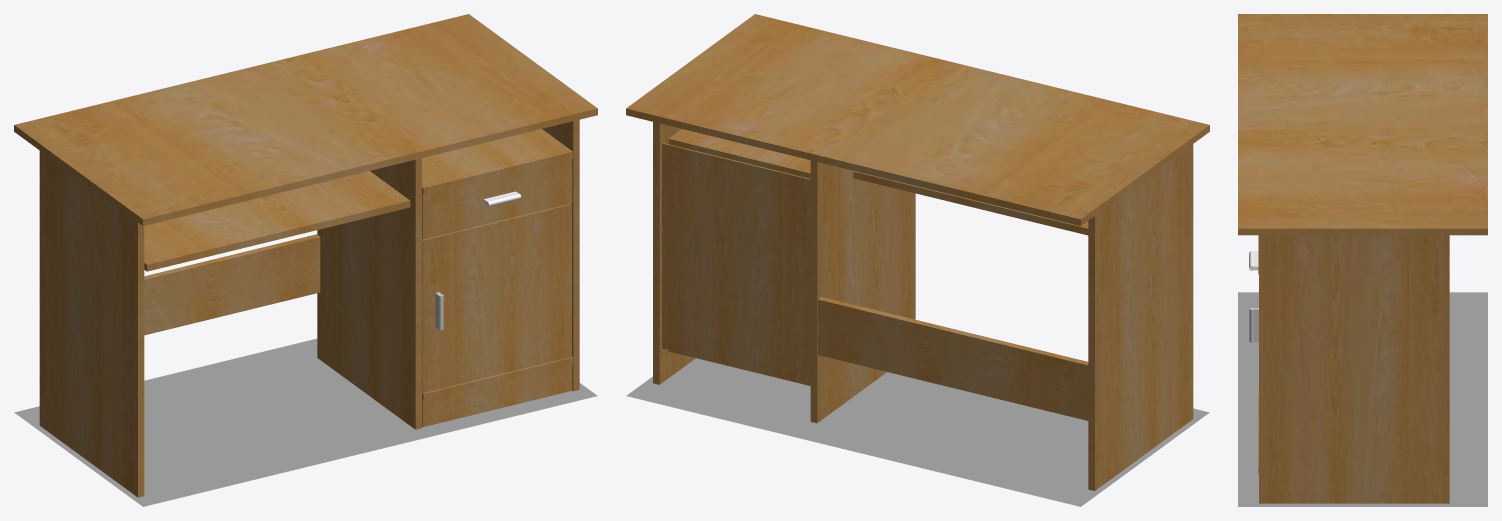
The model's file is Escritorio.obj.
3 views of the same model, side by side, from view 1: azimuth 30°, elevation 25°; view 2: azimuth 150°, elevation 25°; view 3: azimuth 270°, elevation 25° (orthographic). The views are drawn at different scales.
Parts seen in each view (by area): view 1: Cube_1_1_2, ground_1, Cube_2_1_3_4, Cube_3_5_6, Cube_2_2_3, Cube_6_8_9, Cube_7_9_10, Cube_4_6_7, Cube_8_10_11, Cube_5_7_8, Cube_2_2_4_5, Cube_8_1_16_17; view 2: Cube_1_1_2, ground_1, Cube_3_1_11_12, Cube_2_1_3_4, Cube_2_2_3, Cube_7_9_10, Cube_2_2_4_5, Cube_8_10_11, Cube_6_8_9; view 3: Cube_1_1_2, Cube_2_2_4_5, ground_1.
Boxes of the visible parts, x1,y1,x2,y2 form: Cube_1_1_2: (14,14,597,225); ground_1: (14,338,597,506); Cube_2_1_3_4: (39,151,144,497); Cube_3_5_6: (422,203,571,392); Cube_2_2_3: (317,158,421,429); Cube_6_8_9: (144,171,410,271); Cube_7_9_10: (144,234,320,335); Cube_4_6_7: (422,159,572,239); Cube_8_10_11: (422,129,572,194); Cube_5_7_8: (422,356,572,427); Cube_2_2_4_5: (542,119,579,391); Cube_8_1_16_17: (422,357,572,400); Cube_1_1_2: (626,14,1209,225); ground_1: (626,358,1209,506); Cube_3_1_11_12: (662,143,810,384); Cube_2_1_3_4: (1088,144,1193,490); Cube_2_2_3: (810,160,915,423); Cube_7_9_10: (818,297,1088,420); Cube_2_2_4_5: (653,122,695,384); Cube_8_10_11: (668,129,810,178); Cube_6_8_9: (853,171,1088,235); Cube_1_1_2: (1238,14,1487,235); Cube_2_2_4_5: (1259,235,1449,503); ground_1: (1238,292,1487,506).
Bounding box in the file's own units: 120 × 72.5 × 59.
Materials: 4 (1 with a texture image).
